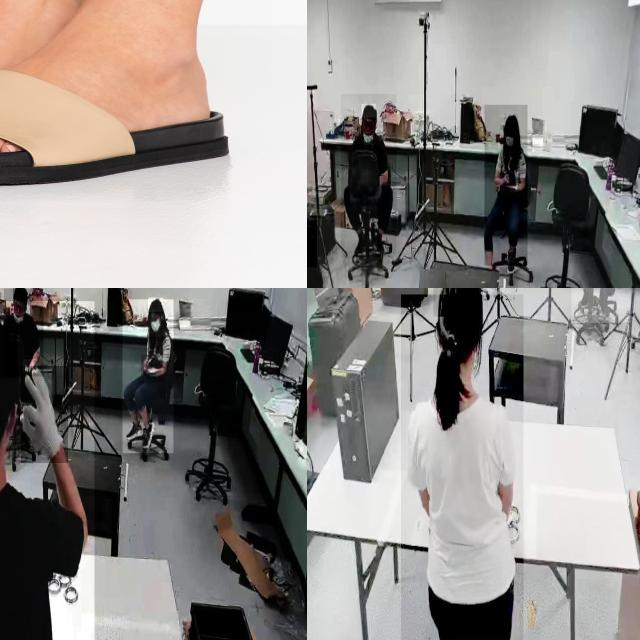Sandals: (0, 14, 228, 186)
face_mask: (503, 126, 518, 156), (148, 314, 164, 336)
face_nomask: (361, 118, 375, 136)
hand_glove: (21, 366, 68, 463)
hand_noglove: (23, 359, 38, 374), (141, 354, 149, 376), (502, 171, 510, 184)
head_nohelmet: (433, 288, 482, 317), (0, 315, 18, 379), (148, 298, 164, 312), (362, 104, 376, 118), (504, 114, 518, 126), (13, 288, 27, 300)
person: (401, 294, 524, 640), (0, 301, 95, 640), (341, 94, 397, 258), (122, 299, 174, 454), (484, 105, 528, 266), (4, 288, 44, 376), (571, 288, 630, 324)
shoes: (141, 418, 156, 452), (370, 229, 388, 257), (505, 244, 519, 280), (124, 418, 144, 443), (353, 230, 369, 257)
